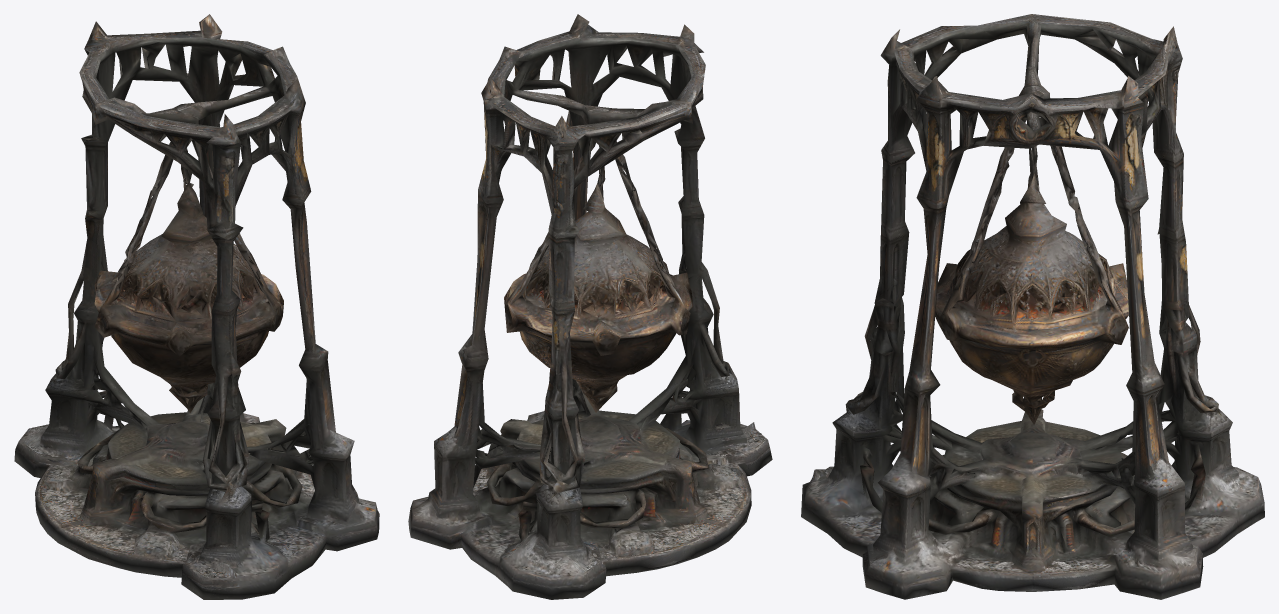
The model's file is env_ca_censer.glb.
3 views of the same model, side by side, from view 1: azimuth 30°, elevation 25°; view 2: azimuth 150°, elevation 25°; view 3: azimuth 270°, elevation 25° (orthographic). The views are drawn at different scales.
Visible parts, largest first — view 1: tripo_node_1b17a9c5-5d25-4e6b-a8b9-eb6c4b6164f5; view 2: tripo_node_1b17a9c5-5d25-4e6b-a8b9-eb6c4b6164f5; view 3: tripo_node_1b17a9c5-5d25-4e6b-a8b9-eb6c4b6164f5.
Part boxes in pixels (x1,y1,x2,y2): tripo_node_1b17a9c5-5d25-4e6b-a8b9-eb6c4b6164f5: (14, 14, 379, 599); tripo_node_1b17a9c5-5d25-4e6b-a8b9-eb6c4b6164f5: (408, 14, 772, 599); tripo_node_1b17a9c5-5d25-4e6b-a8b9-eb6c4b6164f5: (801, 14, 1264, 599).
Size of the model in its own units: 0.6109 by 1 by 0.8593.
1 material, 1 textured.
